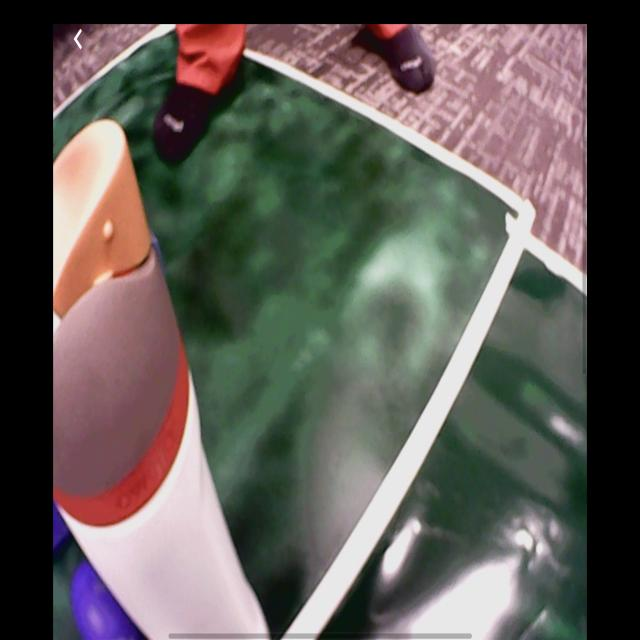ball: (70, 556, 143, 640)
